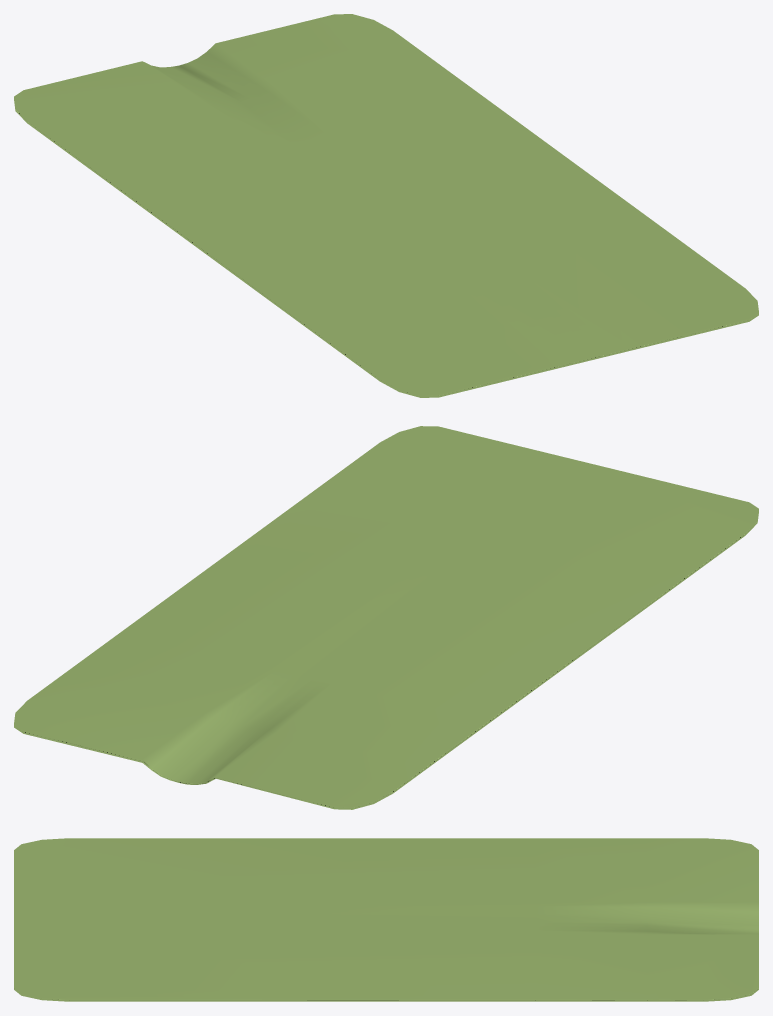
File: LongStart_End_Platform_lvl1.fbx
The picture shows the model from 3 angles, top to bottom: view 1: azimuth 30°, elevation 25°; view 2: azimuth 150°, elevation 25°; view 3: azimuth 270°, elevation 25°; orthographic projection. The views are drawn at different scales.
Parts seen in each view (by area): view 1: pCube2; view 2: pCube2; view 3: pCube2.
Part boxes in pixels (left/top/right/bottom): pCube2: left=14, top=14, right=758, bottom=397; pCube2: left=14, top=426, right=758, bottom=809; pCube2: left=14, top=838, right=758, bottom=1001.
Size of the model in its own units: 10.18 by 0.3966 by 20.
